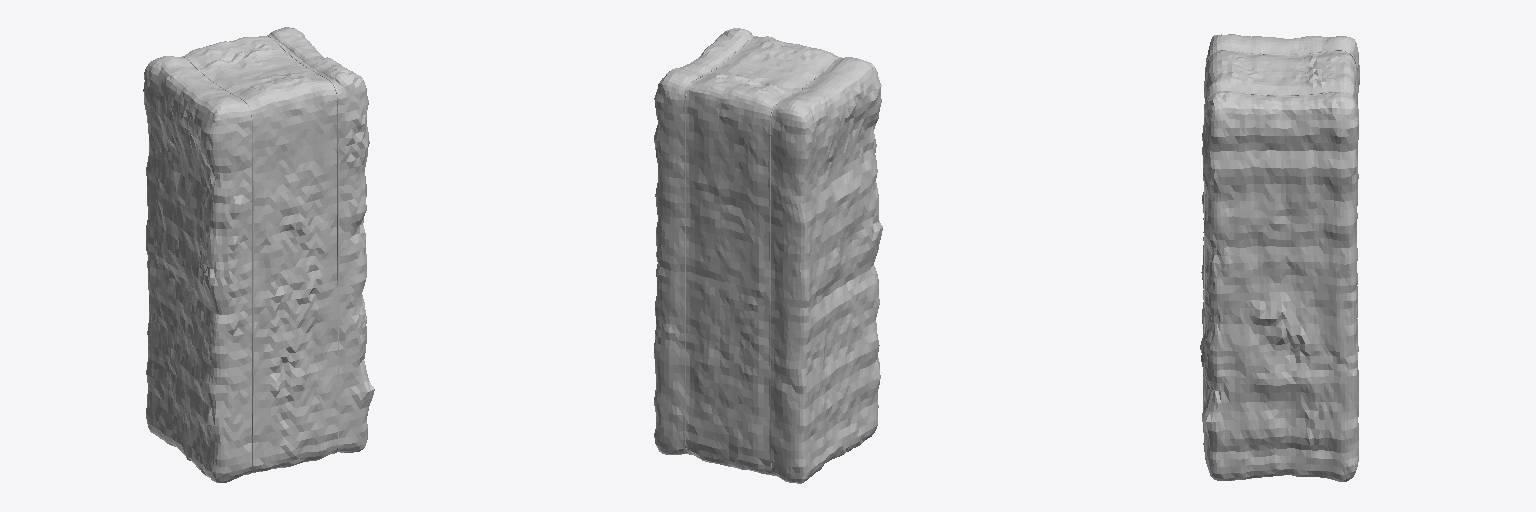
File: wall1.obj
3 renders of one model, left to right at view 1: azimuth 30°, elevation 25°; view 2: azimuth 150°, elevation 25°; view 3: azimuth 270°, elevation 25°, orthographic.
Parts seen in each view (by area): view 1: 11543_BundleOfStraw_V2_l1; view 2: 11543_BundleOfStraw_V2_l1; view 3: 11543_BundleOfStraw_V2_l1.
Boxes of the visible parts, box(x1,y1,x2,y2) form: 11543_BundleOfStraw_V2_l1: box(143, 27, 374, 482); 11543_BundleOfStraw_V2_l1: box(654, 28, 882, 483); 11543_BundleOfStraw_V2_l1: box(1200, 34, 1359, 481).
Size of the model in its own units: 6.87 by 15.11 by 5.74.